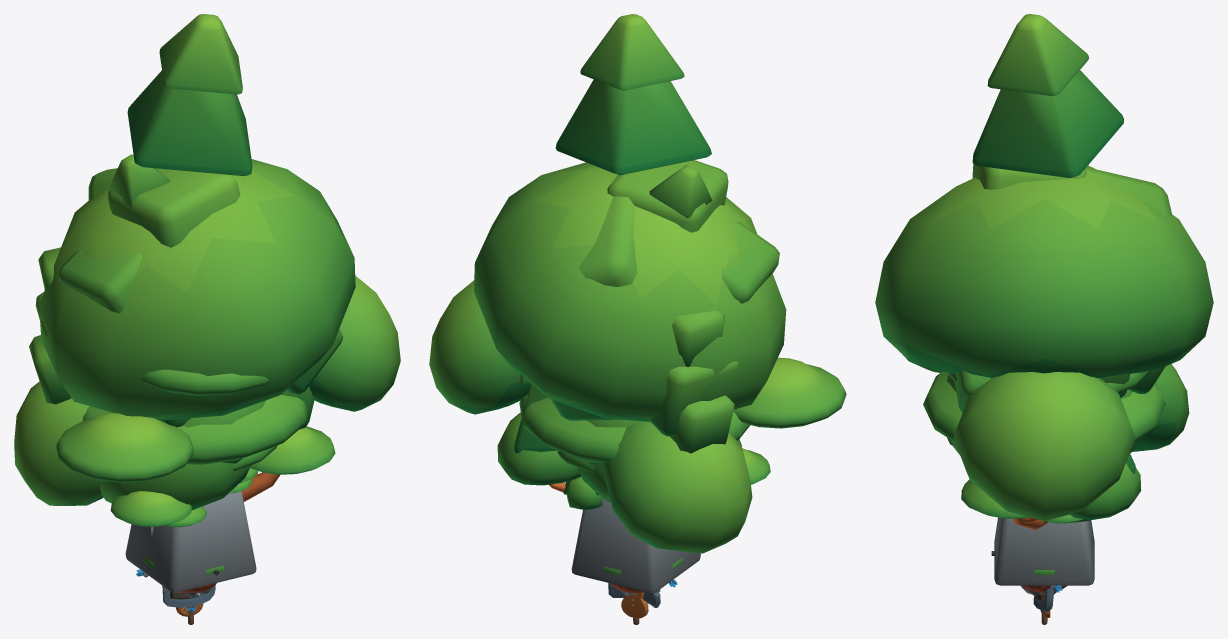
3 views of the same model, side by side, from view 1: azimuth 30°, elevation 25°; view 2: azimuth 150°, elevation 25°; view 3: azimuth 270°, elevation 25° (orthographic).
Visible parts, largest first — view 1: Tree_1_C_Color1, Tree_4_C_Color1, Tree_3_C_Color1, Tree_2_D_Color1, Rock_2_D_Color1, Tree_3_B_Color1, Tree_1_A_Color1, Tree_2_C_Color1, Tree_3_A_Color1, Tree_1_B_Color1, shield_C, Tree_2_B_Color1; view 2: Tree_1_C_Color1, Tree_4_C_Color1, Tree_2_D_Color1, Rock_2_D_Color1, Tree_3_C_Color1, Tree_3_B_Color1, Tree_2_C_Color1, Tree_1_B_Color1, Tree_1_A_Color1; view 3: Tree_1_C_Color1, Tree_4_C_Color1, Rock_2_D_Color1, Tree_2_D_Color1, Tree_3_B_Color1, Tree_3_C_Color1, Tree_1_B_Color1.
Part boxes in pixels (x1=…): Tree_1_C_Color1: x1=14, y1=159, x2=400, y2=592; Tree_4_C_Color1: x1=107, y1=14, x2=252, y2=207; Tree_3_C_Color1: x1=56, y1=369, x2=335, y2=592; Tree_2_D_Color1: x1=35, y1=168, x2=343, y2=394; Rock_2_D_Color1: x1=125, y1=484, x2=256, y2=592; Tree_3_B_Color1: x1=82, y1=395, x2=307, y2=526; Tree_1_A_Color1: x1=99, y1=462, x2=250, y2=510; Tree_2_C_Color1: x1=29, y1=292, x2=71, y2=404; Tree_3_A_Color1: x1=166, y1=445, x2=277, y2=527; Tree_1_B_Color1: x1=183, y1=400, x2=265, y2=463; shield_C: x1=162, y1=585, x2=215, y2=607; Tree_2_B_Color1: x1=161, y1=386, x2=315, y2=429; Tree_1_C_Color1: x1=429, y1=162, x2=786, y2=593; Tree_4_C_Color1: x1=514, y1=14, x2=712, y2=453; Tree_2_D_Color1: x1=551, y1=160, x2=779, y2=436; Rock_2_D_Color1: x1=571, y1=498, x2=700, y2=592; Tree_3_C_Color1: x1=614, y1=357, x2=846, y2=593; Tree_3_B_Color1: x1=519, y1=394, x2=770, y2=484; Tree_2_C_Color1: x1=649, y1=361, x2=739, y2=453; Tree_1_B_Color1: x1=497, y1=412, x2=636, y2=492; Tree_1_A_Color1: x1=566, y1=439, x2=741, y2=510; Tree_1_C_Color1: x1=875, y1=165, x2=1213, y2=592; Tree_4_C_Color1: x1=972, y1=14, x2=1135, y2=473; Rock_2_D_Color1: x1=994, y1=517, x2=1094, y2=585; Tree_2_D_Color1: x1=954, y1=163, x2=1172, y2=412; Tree_3_B_Color1: x1=923, y1=371, x2=1165, y2=445; Tree_3_C_Color1: x1=902, y1=354, x2=1151, y2=591; Tree_1_B_Color1: x1=946, y1=374, x2=1141, y2=519.
Bounding box in the file's own units: 7.18 × 11.49 × 5.75.
6 materials, 6 textured.
